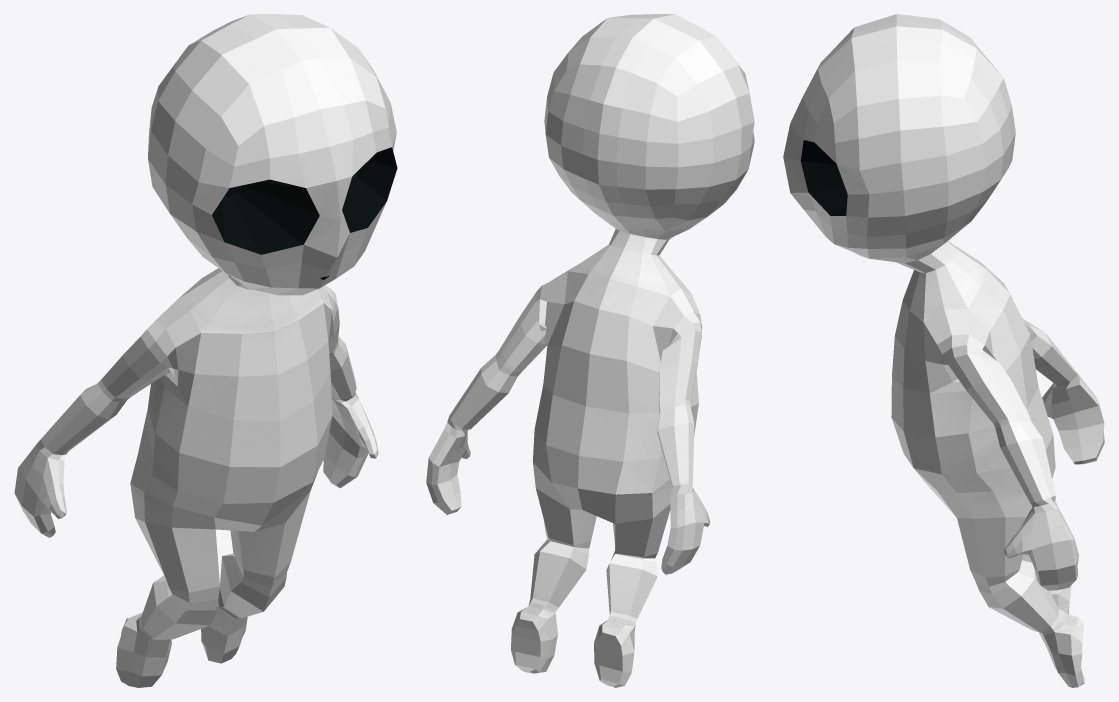
File: ghost.obj
3 renders of one model, left to right at view 1: azimuth 30°, elevation 25°; view 2: azimuth 150°, elevation 25°; view 3: azimuth 270°, elevation 25°, orthographic. The views are drawn at different scales.
Visible parts, largest first — view 1: Rigging_Cube.002; view 2: Rigging_Cube.002; view 3: Rigging_Cube.002.
Boxes of the visible parts, x1=… form: Rigging_Cube.002: x1=14, y1=14, x2=397, y2=687; Rigging_Cube.002: x1=426, y1=14, x2=754, y2=687; Rigging_Cube.002: x1=783, y1=14, x2=1104, y2=687.
Bounding box in the file's own units: 0.6836 × 1.44 × 0.6581.
